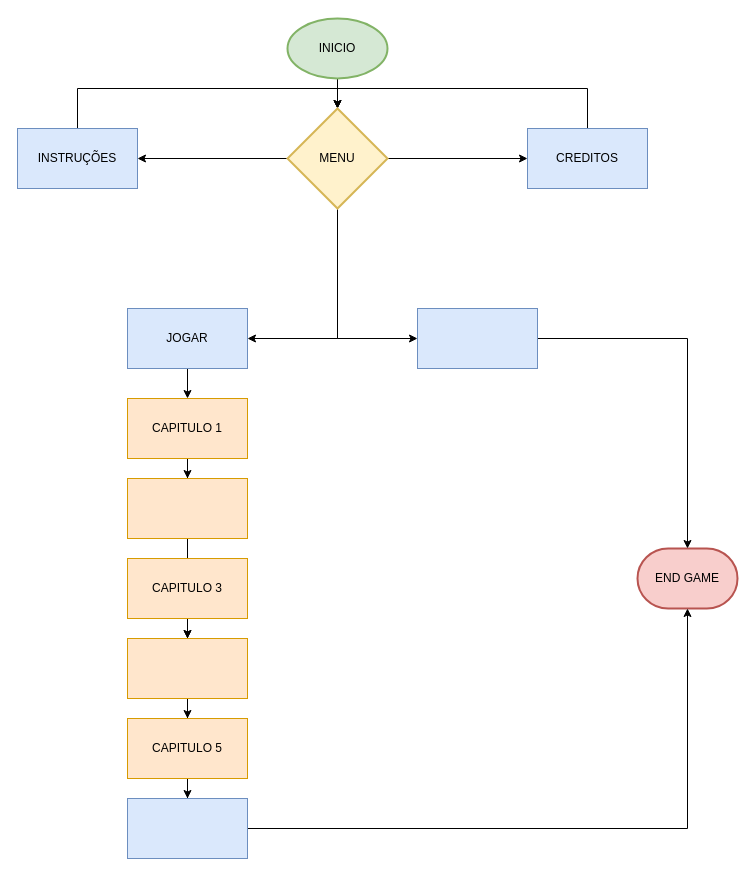
This 756x876 diagram has some shape labels left out. The shapes that lost their labels are listed below. From the top down, each one's box as (x1, y1, x2, y2) in pixels, then its label:
(416, 308, 538, 368): SAIR
(126, 478, 248, 538): CAPITULO 2
(126, 638, 248, 698): CAPITULO 4
(126, 798, 248, 858): AGRADECIMENTOS
